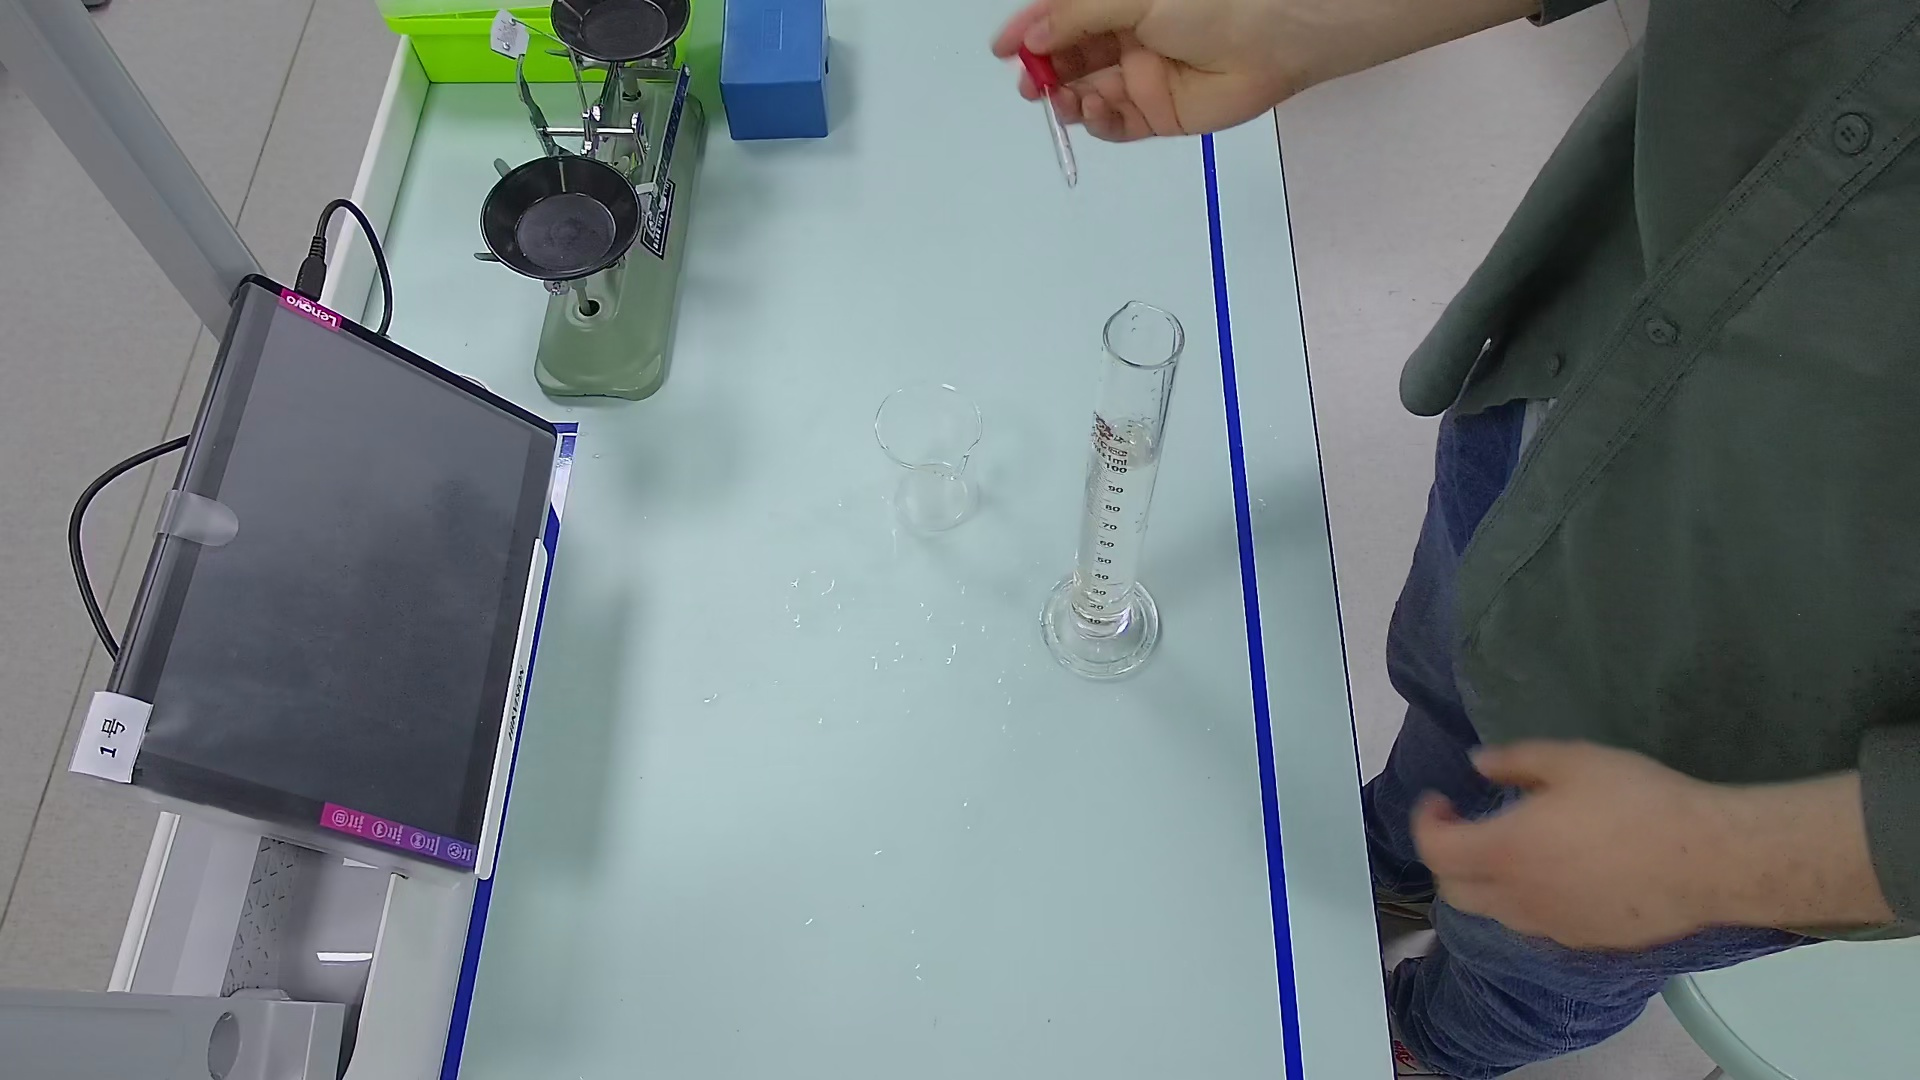ao: (1084, 414, 1159, 465)
bei: (872, 373, 994, 535)
diguan: (1015, 34, 1092, 189)
diguantou: (1015, 40, 1060, 94)
hand: (1424, 746, 1658, 953), (992, 1, 1284, 152)
liangdi: (1042, 575, 1166, 686)
liangtong: (1056, 291, 1183, 684)
tuo: (477, 141, 646, 290), (531, 1, 686, 62)
